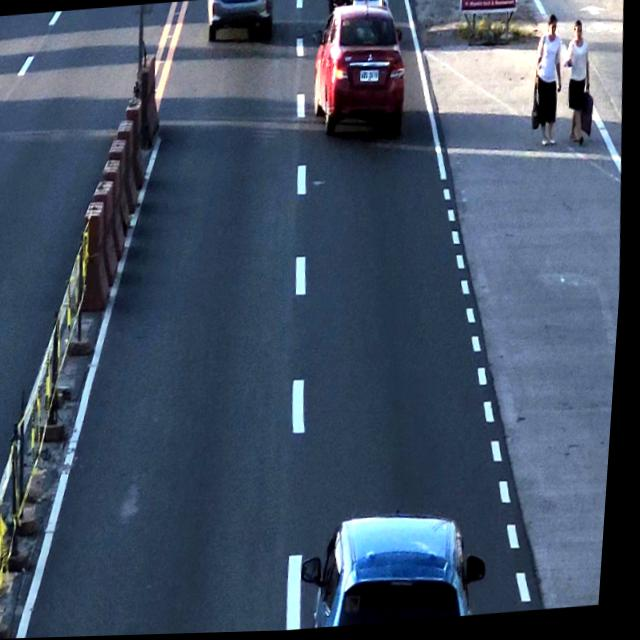Car: (318, 503, 493, 630), (310, 10, 411, 140)
License-Plate: (358, 68, 382, 91)
